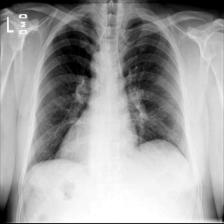normal: (22, 8, 196, 184)
